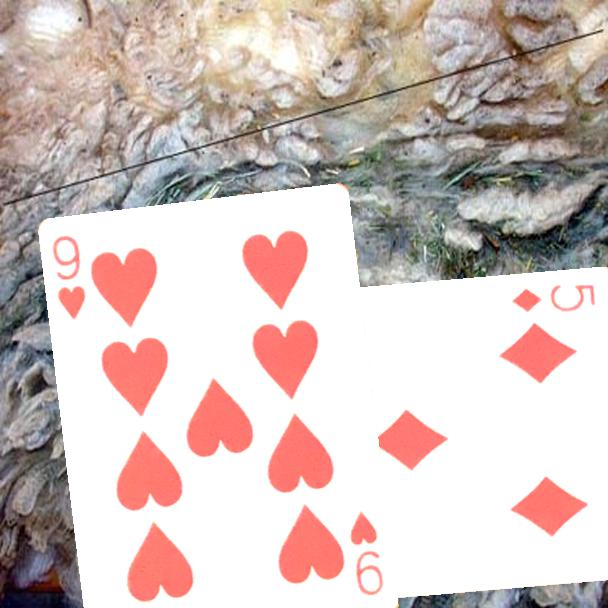d05: (508, 281, 598, 316)
h09: (347, 508, 387, 599), (49, 232, 89, 323)
